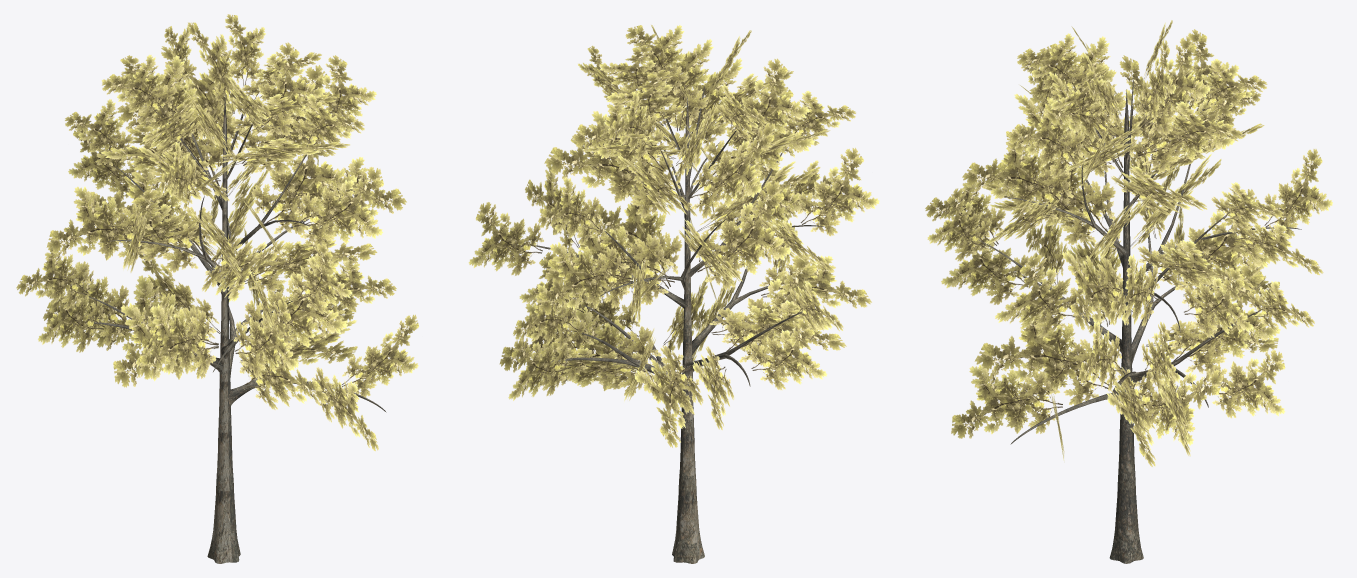
The model's file is treeglb.glb.
The picture shows the model from 3 angles, left to right: view 1: azimuth 30°, elevation 25°; view 2: azimuth 150°, elevation 25°; view 3: azimuth 270°, elevation 25°; orthographic projection.
Visible parts, largest first — view 1: tree; view 2: tree; view 3: tree.
Boxes of the visible parts, x1,y1,x2,y2 form: tree: (16,14,418,563); tree: (468,25,879,563); tree: (925,20,1332,563).
Bounding box in the file's own units: 1.59 × 2.22 × 1.61.
Materials: 2 (2 with a texture image).
